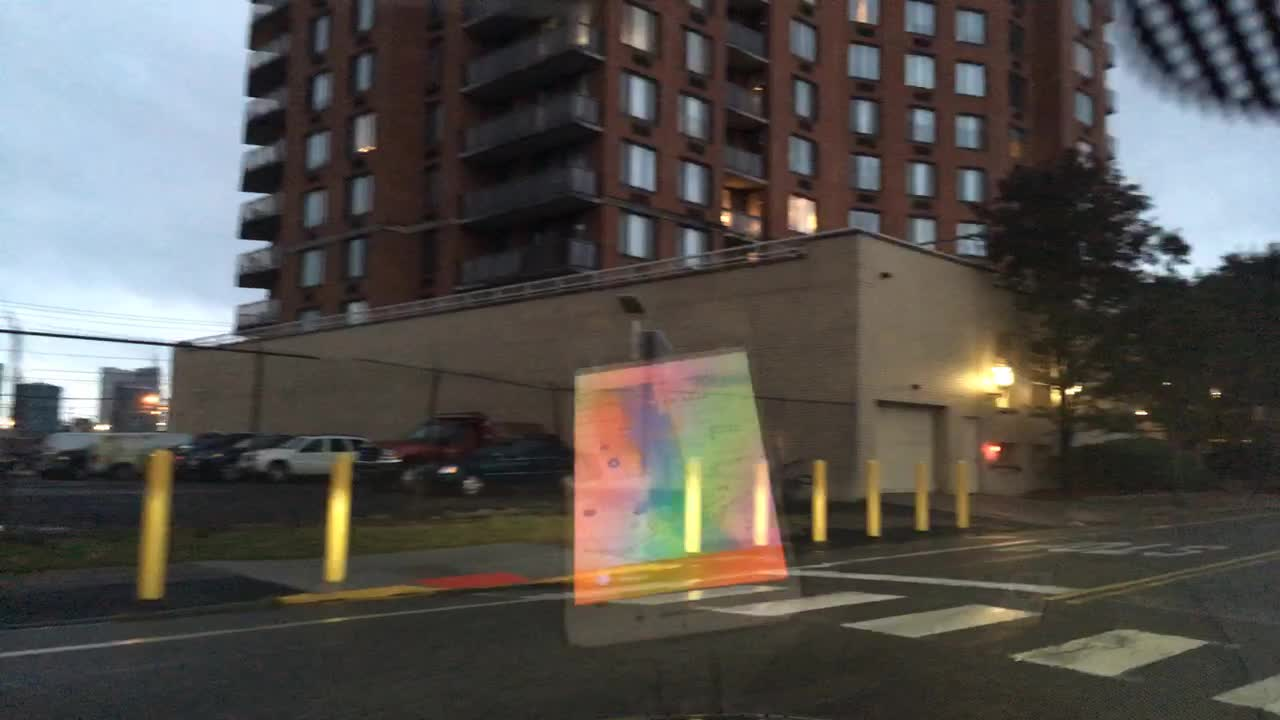bus: (33, 429, 192, 485)
car: (348, 408, 552, 490), (393, 432, 577, 499), (235, 437, 365, 482), (179, 432, 287, 482), (82, 434, 194, 478), (163, 429, 229, 482)
